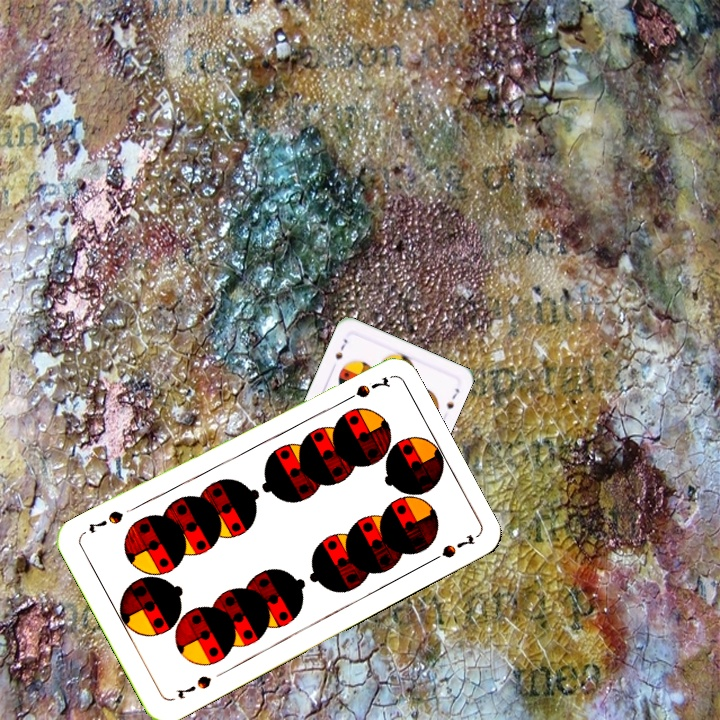S7: (336, 372, 392, 407), (172, 671, 214, 702), (331, 335, 350, 362)
